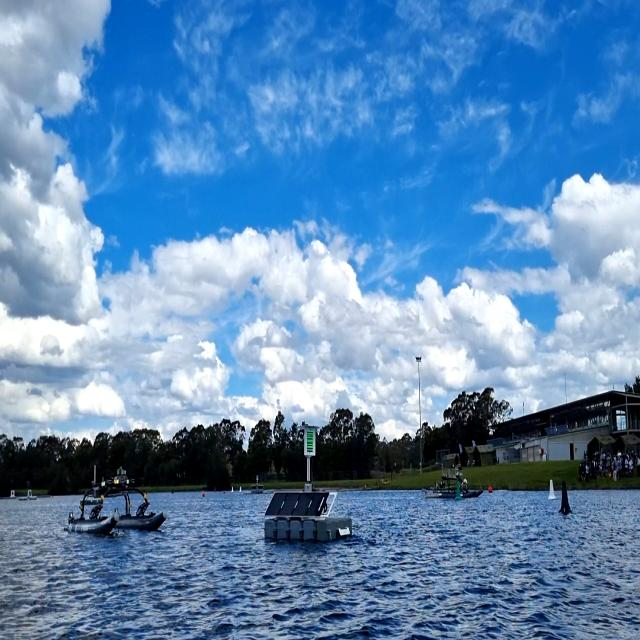led: (305, 429, 315, 455)
